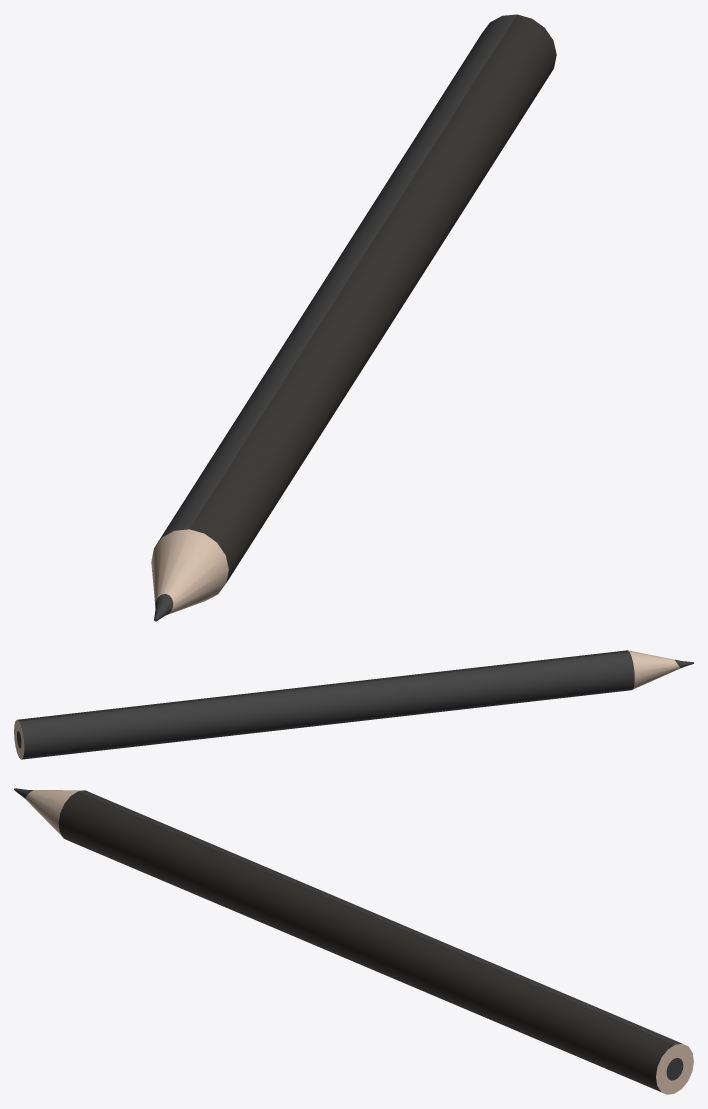
Rendered from pencil.fbx.
3 views of the same model, one above another, from view 1: azimuth 30°, elevation 25°; view 2: azimuth 150°, elevation 25°; view 3: azimuth 270°, elevation 25° (orthographic). The views are drawn at different scales.
Parts seen in each view (by area): view 1: pencil.001; view 2: pencil.001; view 3: pencil.001.
Boxes of the visible parts, x1=… form: pencil.001: x1=151, y1=14, x2=556, y2=621; pencil.001: x1=14, y1=650, x2=693, y2=759; pencil.001: x1=14, y1=788, x2=693, y2=1094.
Size of the model in its own units: 213 by 17.08 by 213.
